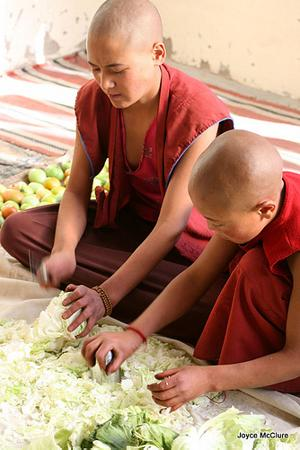person: (1, 3, 237, 338)
